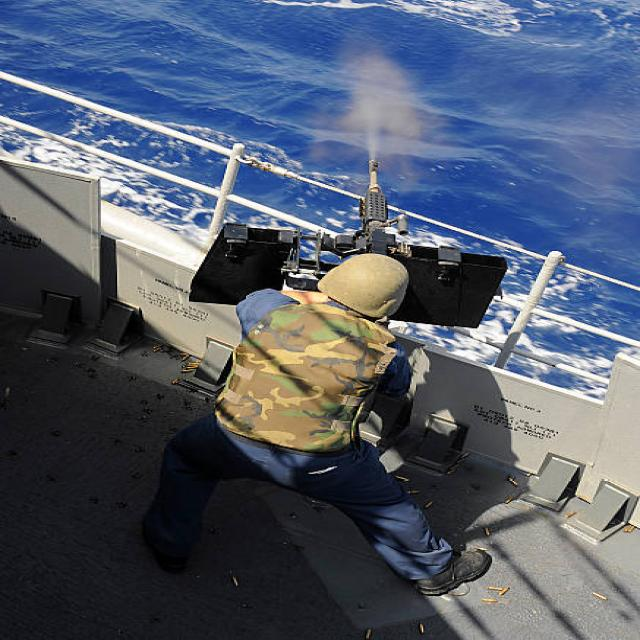soldier: (136, 230, 489, 603)
